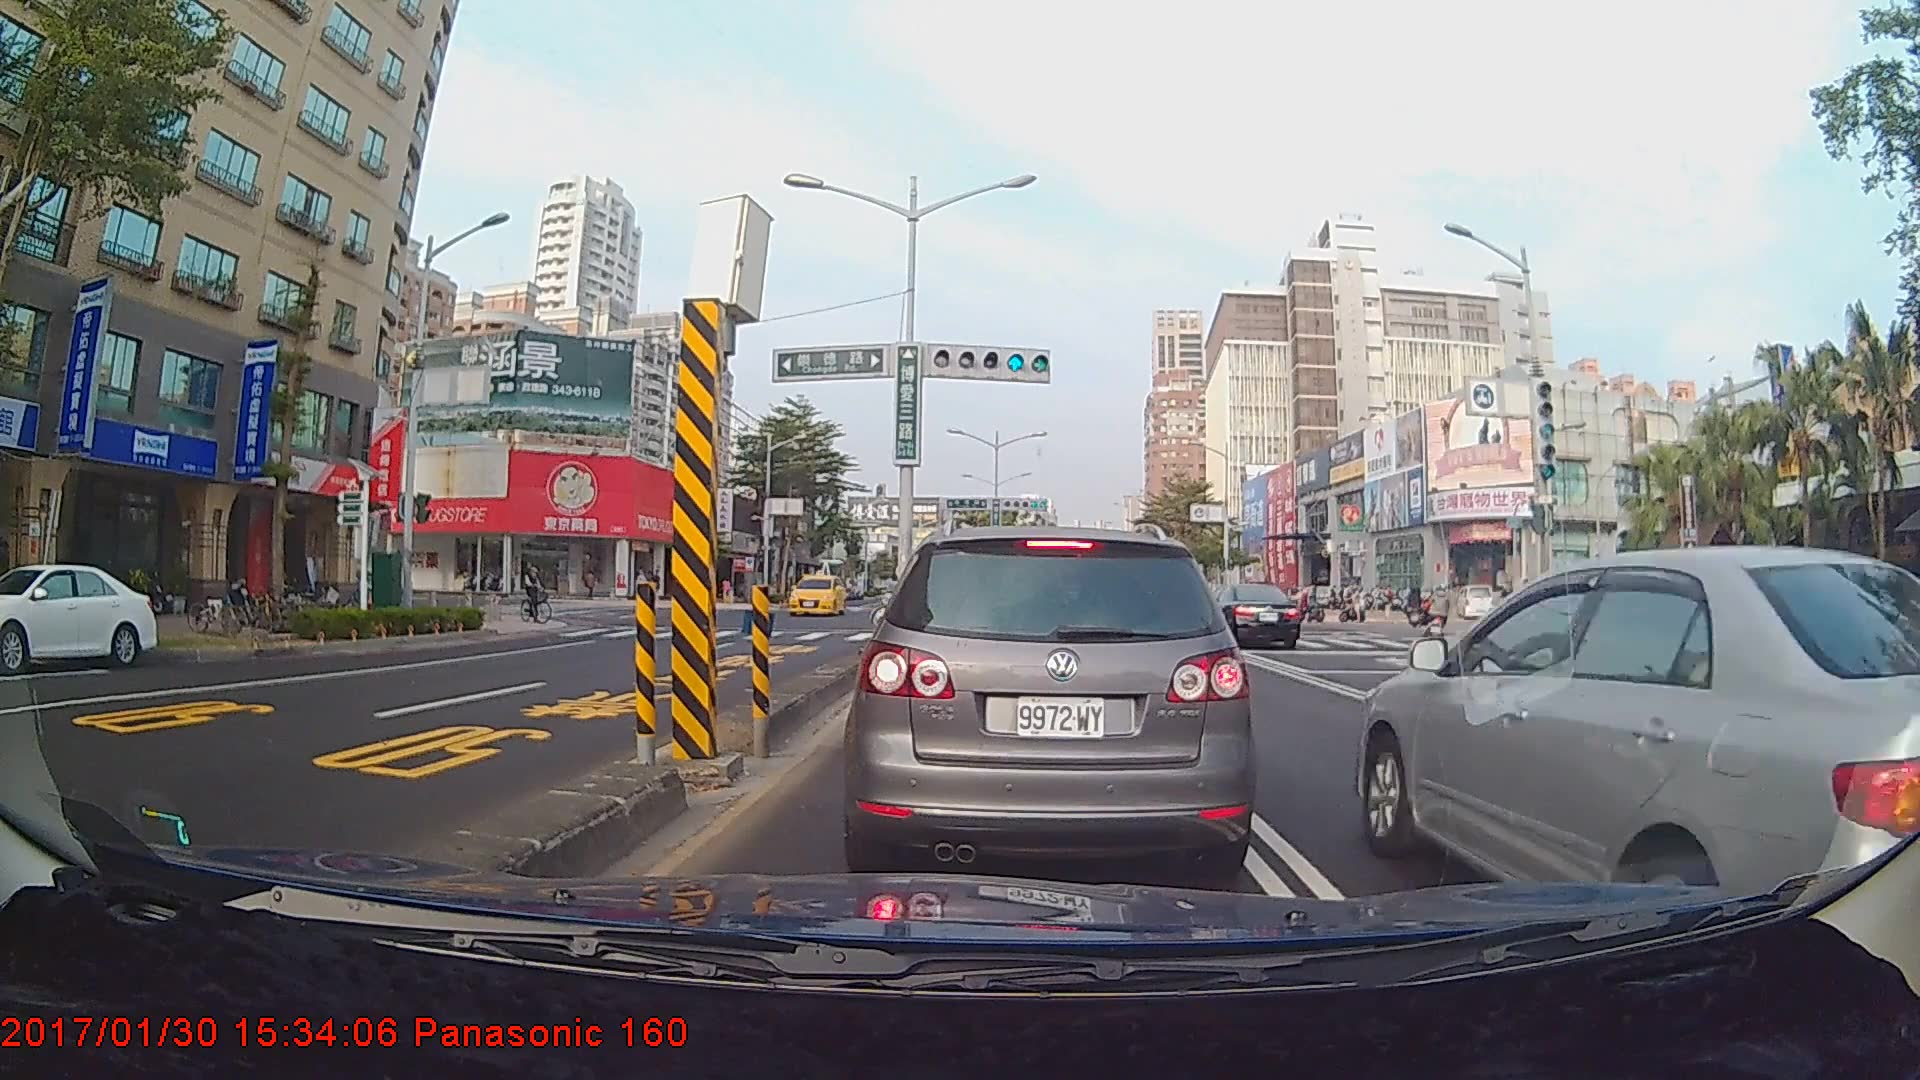rider: (518, 559, 561, 629), (1424, 580, 1456, 645)
vehicle: (1357, 544, 1920, 887), (855, 521, 1250, 875), (0, 561, 162, 671), (1194, 581, 1300, 649), (785, 574, 845, 616)
